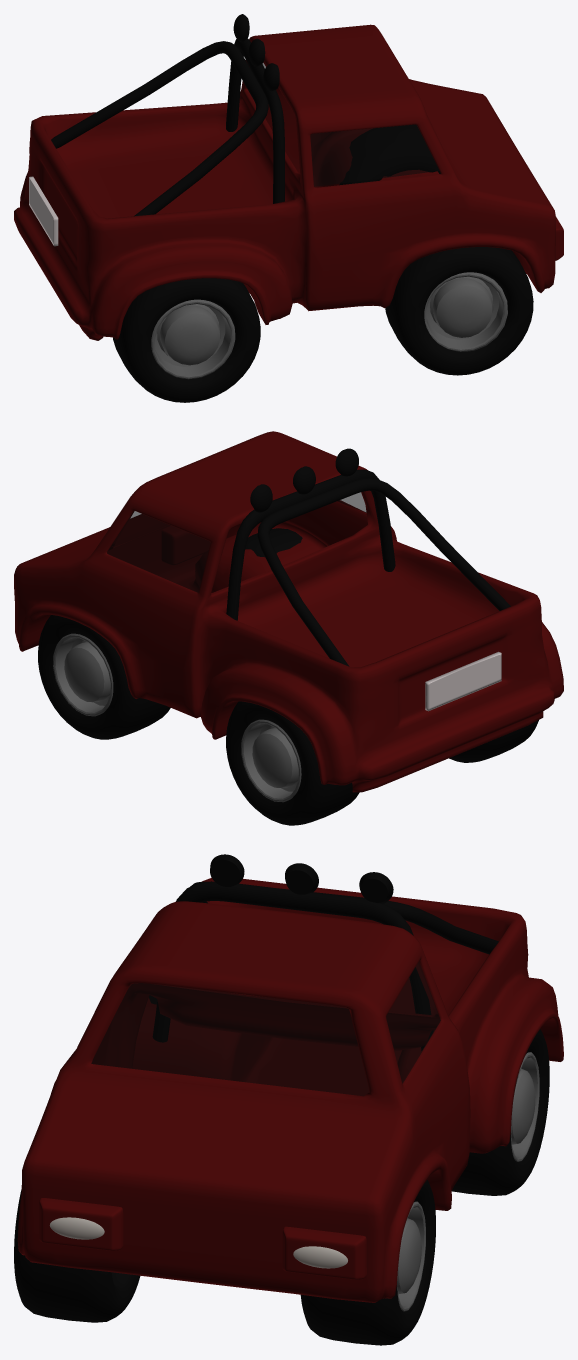
Rendered from car.fbx.
3 renders of one model, top to bottom at view 1: azimuth 30°, elevation 25°; view 2: azimuth 150°, elevation 25°; view 3: azimuth 270°, elevation 25°, orthographic. The views are drawn at different scales.
Parts seen in each view (by area): view 1: pasted__pasted__car; view 2: pasted__pasted__car; view 3: pasted__pasted__car.
Boxes of the visible parts, box(x1,y1,x2,y2) form: pasted__pasted__car: box(14, 14, 563, 402); pasted__pasted__car: box(14, 431, 563, 825); pasted__pasted__car: box(14, 854, 563, 1345).
Size of the model in its own units: 0.9884 by 0.5735 by 0.7595.
